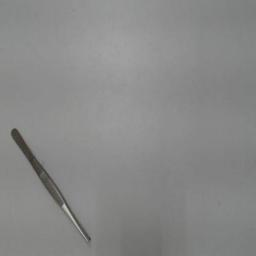Gillies Toothed Dissector: (5, 122, 97, 252)
